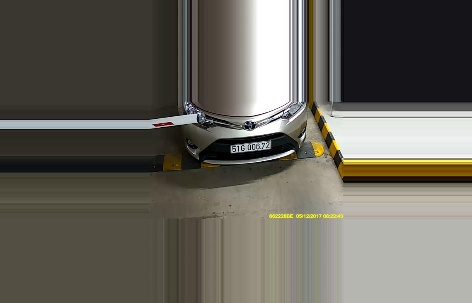plate: (229, 136, 273, 154)
